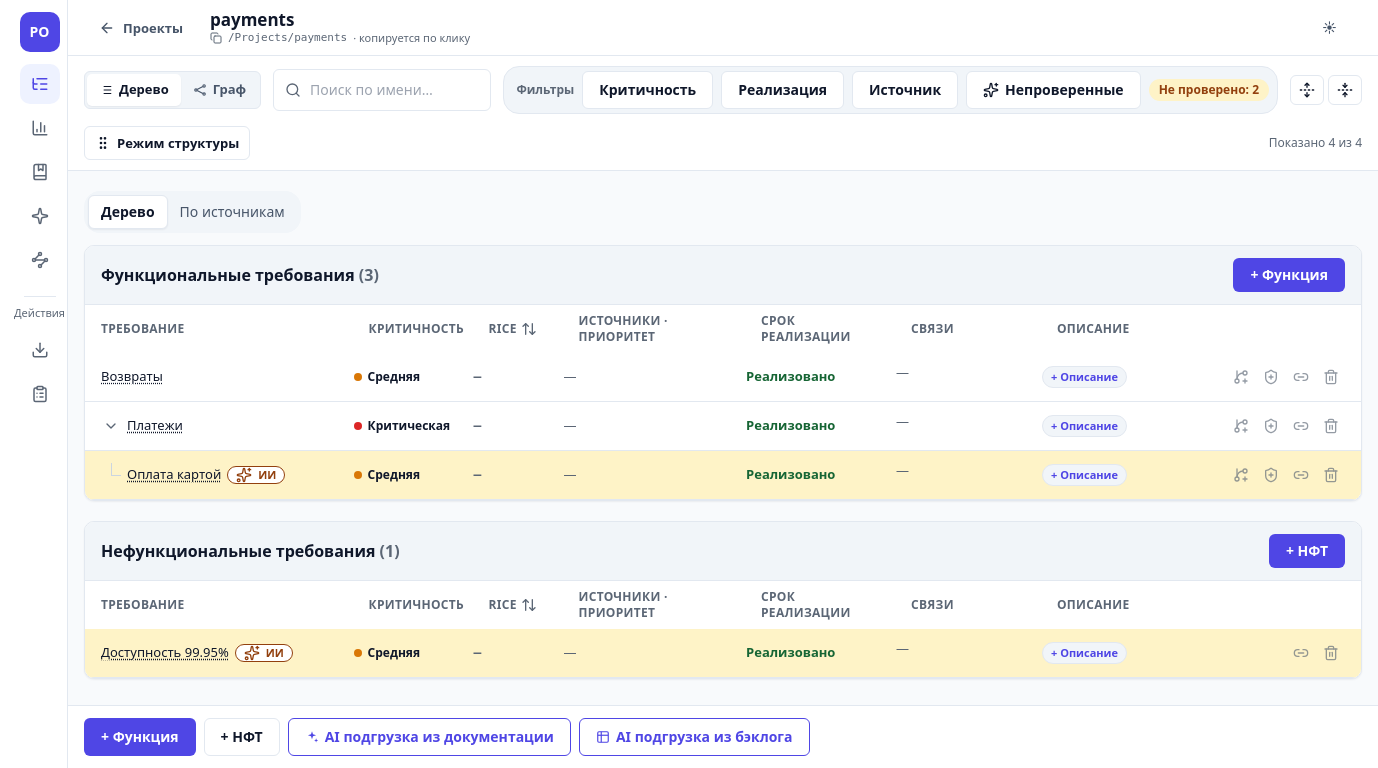
Main — фильтр и счётчик непроверенных ИИ-требований (task26) › фильтр оставляет непроверенные строки и их предков для контекста
Expected: the row with test id "tree-row-card" is shown, [85,450,1361,500]
Click the button with test id "filter-ai-pending".
click(1053, 90)  # box [966,71,1141,109]
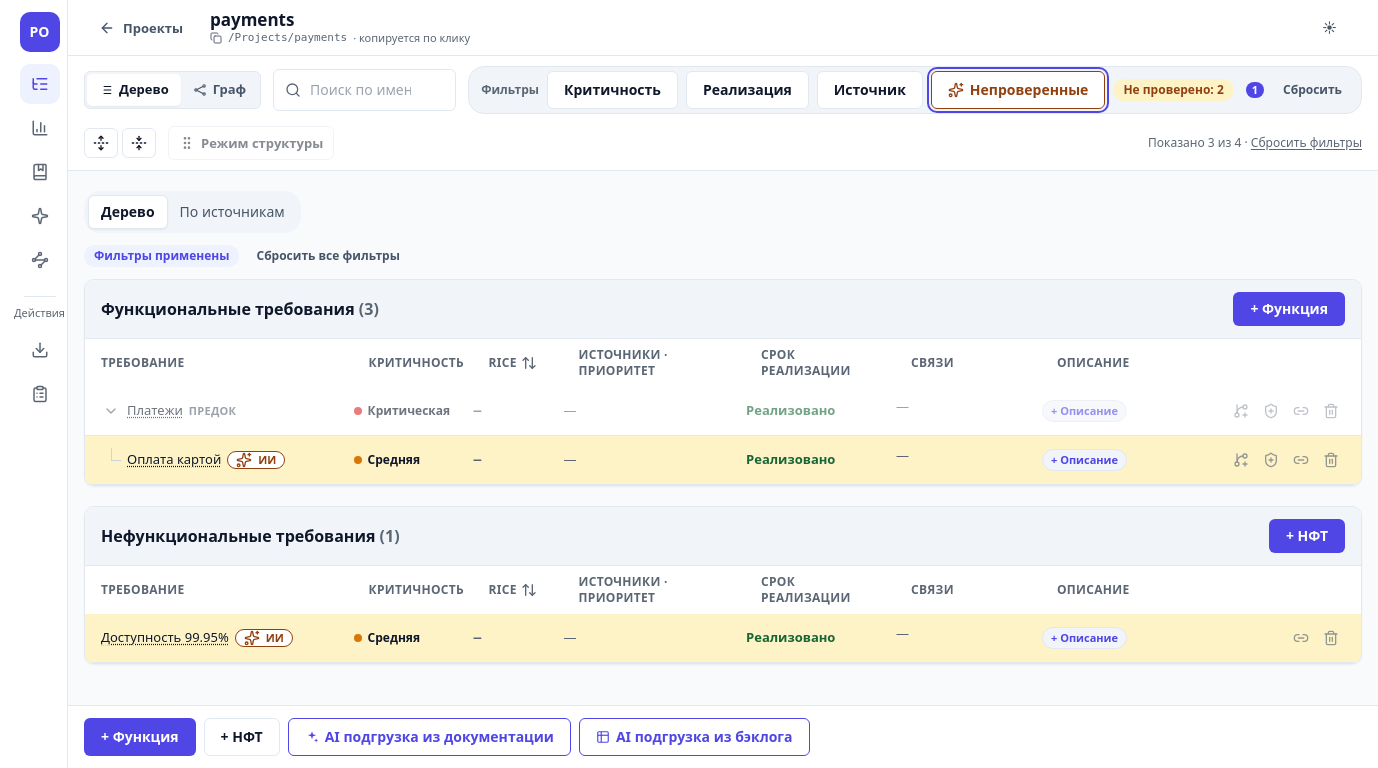
Expected: the row with test id "tree-row-card" is shown, [85,436,1361,484]
Expected: the row with test id "tree-row-refund" is gone
